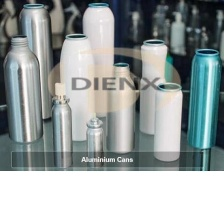bottle: (55, 30, 100, 144), (14, 0, 55, 124), (0, 33, 44, 146), (81, 0, 117, 120), (184, 45, 223, 152), (101, 60, 140, 157), (135, 35, 171, 138), (149, 80, 183, 165), (47, 79, 77, 170), (82, 111, 106, 169)
